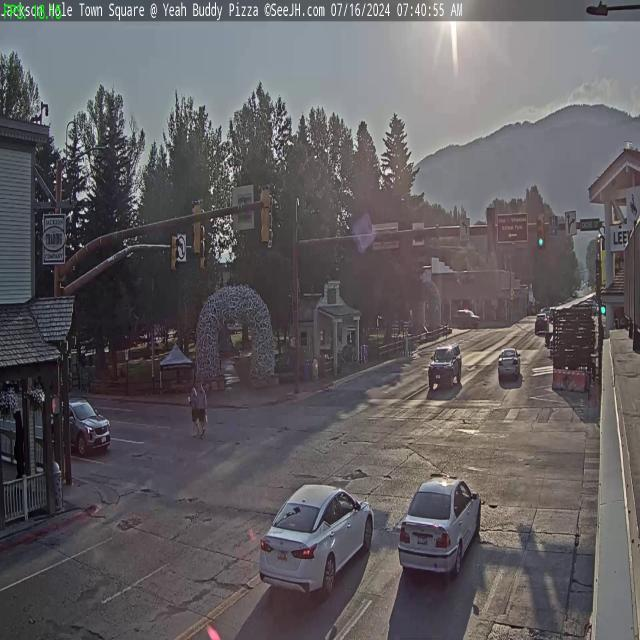person: (196, 378, 206, 441), (190, 379, 198, 436)
suv: (257, 478, 375, 598), (399, 472, 478, 580), (51, 398, 110, 458), (426, 342, 462, 390), (496, 347, 522, 382), (534, 312, 546, 332)
traffic light: (190, 199, 203, 257), (260, 184, 272, 244), (486, 207, 497, 262), (536, 214, 546, 248), (169, 235, 178, 272)
